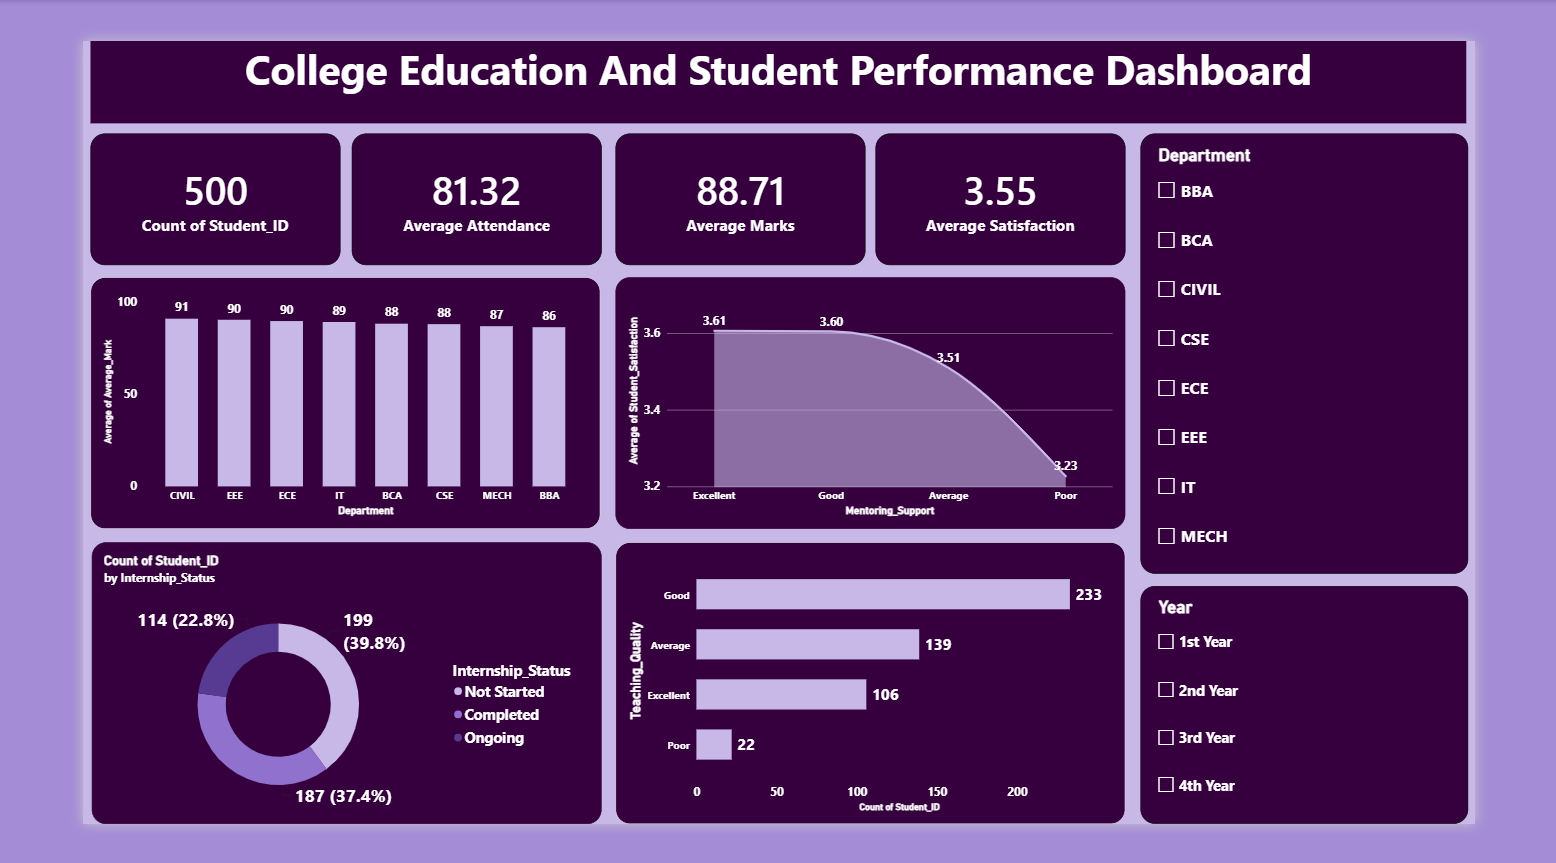

This screenshot's page, from the dashboard's own definition file:
{"tool":"powerbi","page":{"name":"Page 1","canvas":[1920,1080],"ordinal":0},"visuals":[{"type":"textbox","box":[10.5,0,1897.7,113.4],"z":0},{"type":"card","fields":{"Values":["CountNonNull(EducationQualityData.Student_ID)"]},"box":[11,127.7,345,181.4],"z":1000},{"type":"card","fields":{"Values":["Avg(EducationQualityData.Attendance_Percentage)"]},"box":[370.6,127.7,345,181.4],"z":2000},{"type":"card","fields":{"Values":["Avg(EducationQualityData.Average_Mark)"]},"box":[734.9,127.7,345,181.4],"z":3000},{"type":"card","fields":{"Values":["Avg(EducationQualityData.Student_Satisfaction)"]},"box":[1092.9,127.7,345,181.4],"z":4000},{"type":"slicer","fields":{"Values":["EducationQualityData.Department"]},"box":[1458.1,127.3,451.7,607],"z":5000},{"type":"slicer","fields":{"Values":["EducationQualityData.Year"]},"box":[1458.1,751.7,451.7,327.9],"z":6000},{"type":"columnChart","fields":{"Category":["EducationQualityData.Department"],"Y":["Avg(EducationQualityData.Average_Mark)"]},"box":[10.5,326.2,702.9,347.1],"z":7000},{"type":"donutChart","fields":{"Category":["EducationQualityData.Internship_Status"],"Y":["CountNonNull(EducationQualityData.Student_ID)"]},"box":[12.2,690.7,702.9,389],"z":8000},{"type":"stackedAreaChart","fields":{"Category":["EducationQualityData.Mentoring_Support"],"Y":["Avg(EducationQualityData.Student_Satisfaction)"]},"box":[734.3,326.2,702.9,347.1],"z":9000},{"type":"barChart","fields":{"Category":["EducationQualityData.Teaching_Quality"],"Y":["CountNonNull(EducationQualityData.Student_ID)"]},"box":[734.3,690.7,702.9,389],"z":10000}]}

Visuals, with their boxes in screenshot pixels (x1, y1, x2, y2), scaled from the page's 1920x1080 canvas onto the 1556x863 screenshot:
textbox: <region>9, 0, 1546, 91</region>
card - CountNonNull(EducationQualityData.Student_ID): <region>9, 102, 289, 247</region>
card - Avg(EducationQualityData.Attendance_Percentage): <region>300, 102, 580, 247</region>
card - Avg(EducationQualityData.Average_Mark): <region>596, 102, 875, 247</region>
card - Avg(EducationQualityData.Student_Satisfaction): <region>886, 102, 1165, 247</region>
slicer - EducationQualityData.Department: <region>1182, 102, 1548, 587</region>
slicer - EducationQualityData.Year: <region>1182, 601, 1548, 862</region>
columnChart - EducationQualityData.Department x Avg(EducationQualityData.Average_Mark): <region>9, 261, 578, 538</region>
donutChart - EducationQualityData.Internship_Status x CountNonNull(EducationQualityData.Student_ID): <region>10, 552, 580, 862</region>
stackedAreaChart - EducationQualityData.Mentoring_Support x Avg(EducationQualityData.Student_Satisfaction): <region>595, 261, 1165, 538</region>
barChart - EducationQualityData.Teaching_Quality x CountNonNull(EducationQualityData.Student_ID): <region>595, 552, 1165, 862</region>
